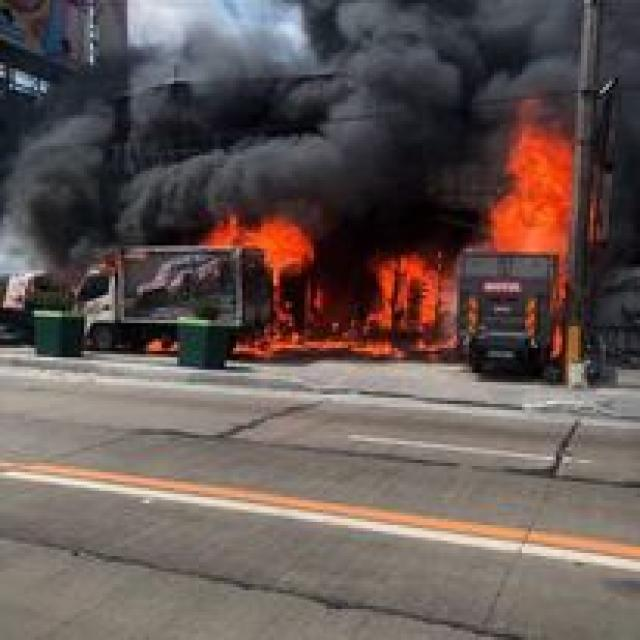Fire: (496, 111, 576, 240), (368, 254, 447, 358), (276, 218, 332, 344)
Smoke: (308, 0, 578, 179), (7, 104, 373, 234)
